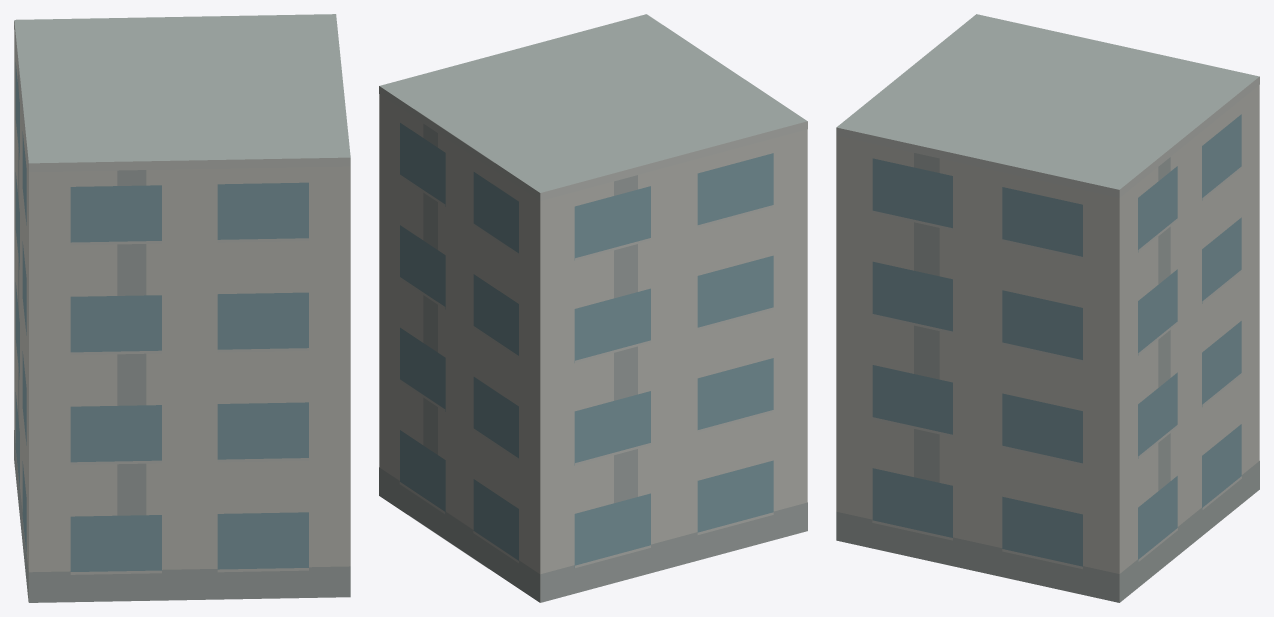
The model's file is residential-5f178a9b-c7b1-47aa-8dce-4b66edcf6b14.glb.
3 views of the same model, side by side, from view 1: azimuth 30°, elevation 25°; view 2: azimuth 150°, elevation 25°; view 3: azimuth 270°, elevation 25° (orthographic). The views are drawn at different scales.
Visible parts, largest first — view 1: residential-5f178a9b-c7b1-47aa-8dce-4b66edcf6b14.tmp; view 2: residential-5f178a9b-c7b1-47aa-8dce-4b66edcf6b14.tmp; view 3: residential-5f178a9b-c7b1-47aa-8dce-4b66edcf6b14.tmp.
Boxes of the visible parts, bbox=[...] form: residential-5f178a9b-c7b1-47aa-8dce-4b66edcf6b14.tmp: bbox=[14, 14, 350, 602]; residential-5f178a9b-c7b1-47aa-8dce-4b66edcf6b14.tmp: bbox=[379, 14, 807, 602]; residential-5f178a9b-c7b1-47aa-8dce-4b66edcf6b14.tmp: bbox=[836, 14, 1259, 602].
Size of the model in its own units: 11.15 by 12.2 by 11.34.
